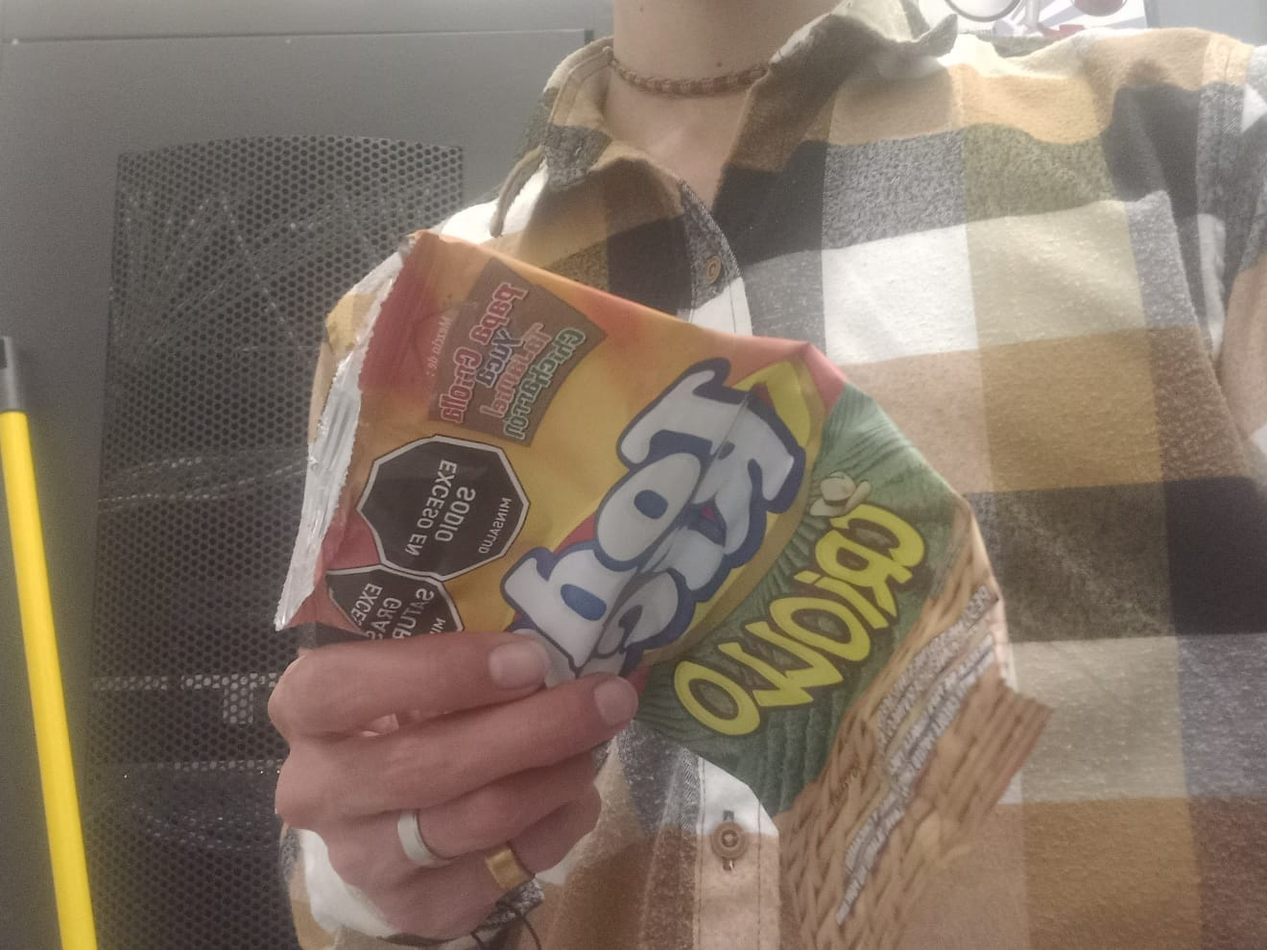Ordinario: (273, 229, 1046, 950)
